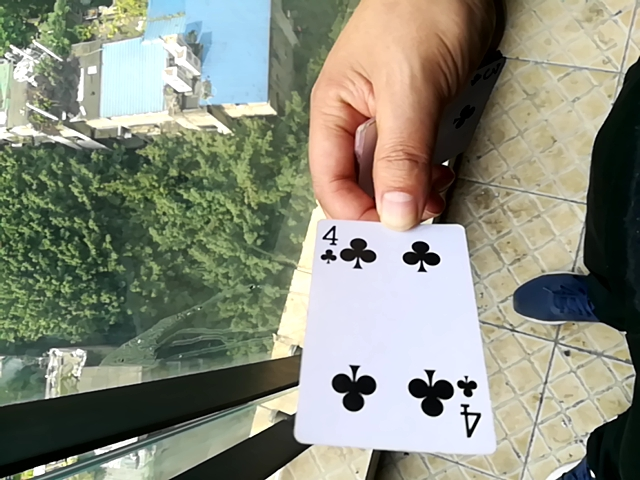mh 4: (286, 213, 495, 460)
